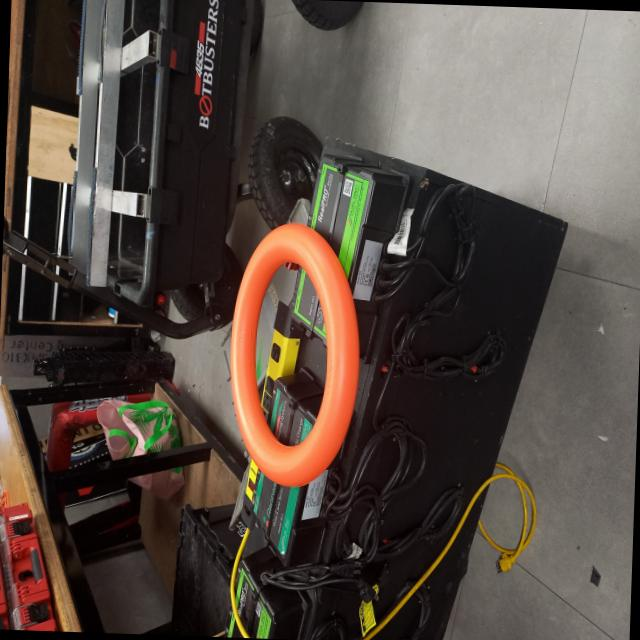note: (216, 213, 371, 505)
